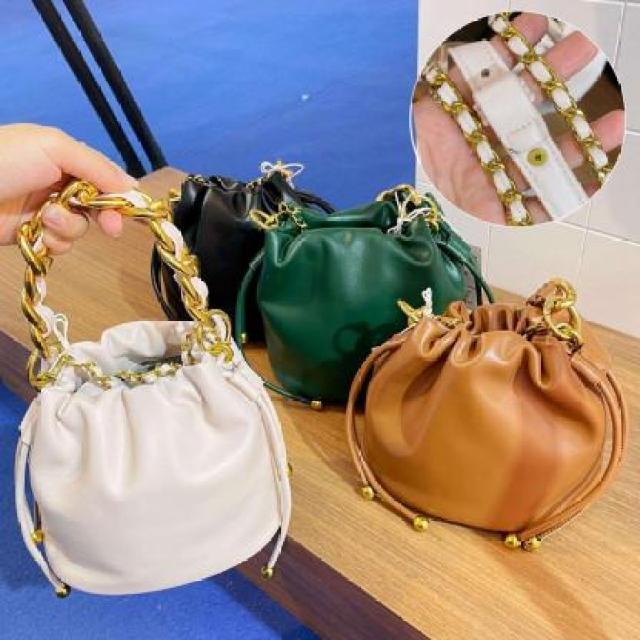Bag: (0, 167, 311, 608), (216, 130, 518, 428), (341, 258, 640, 555)
